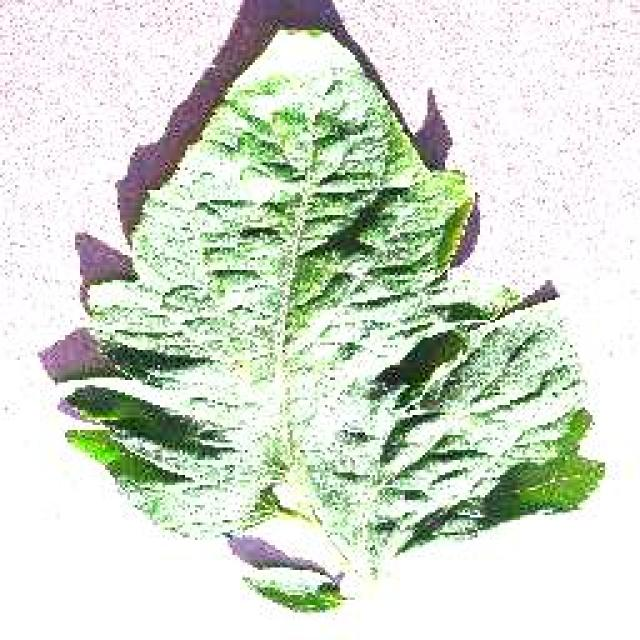Tomato___Target_Spot: (65, 30, 602, 608), (288, 202, 295, 265)
